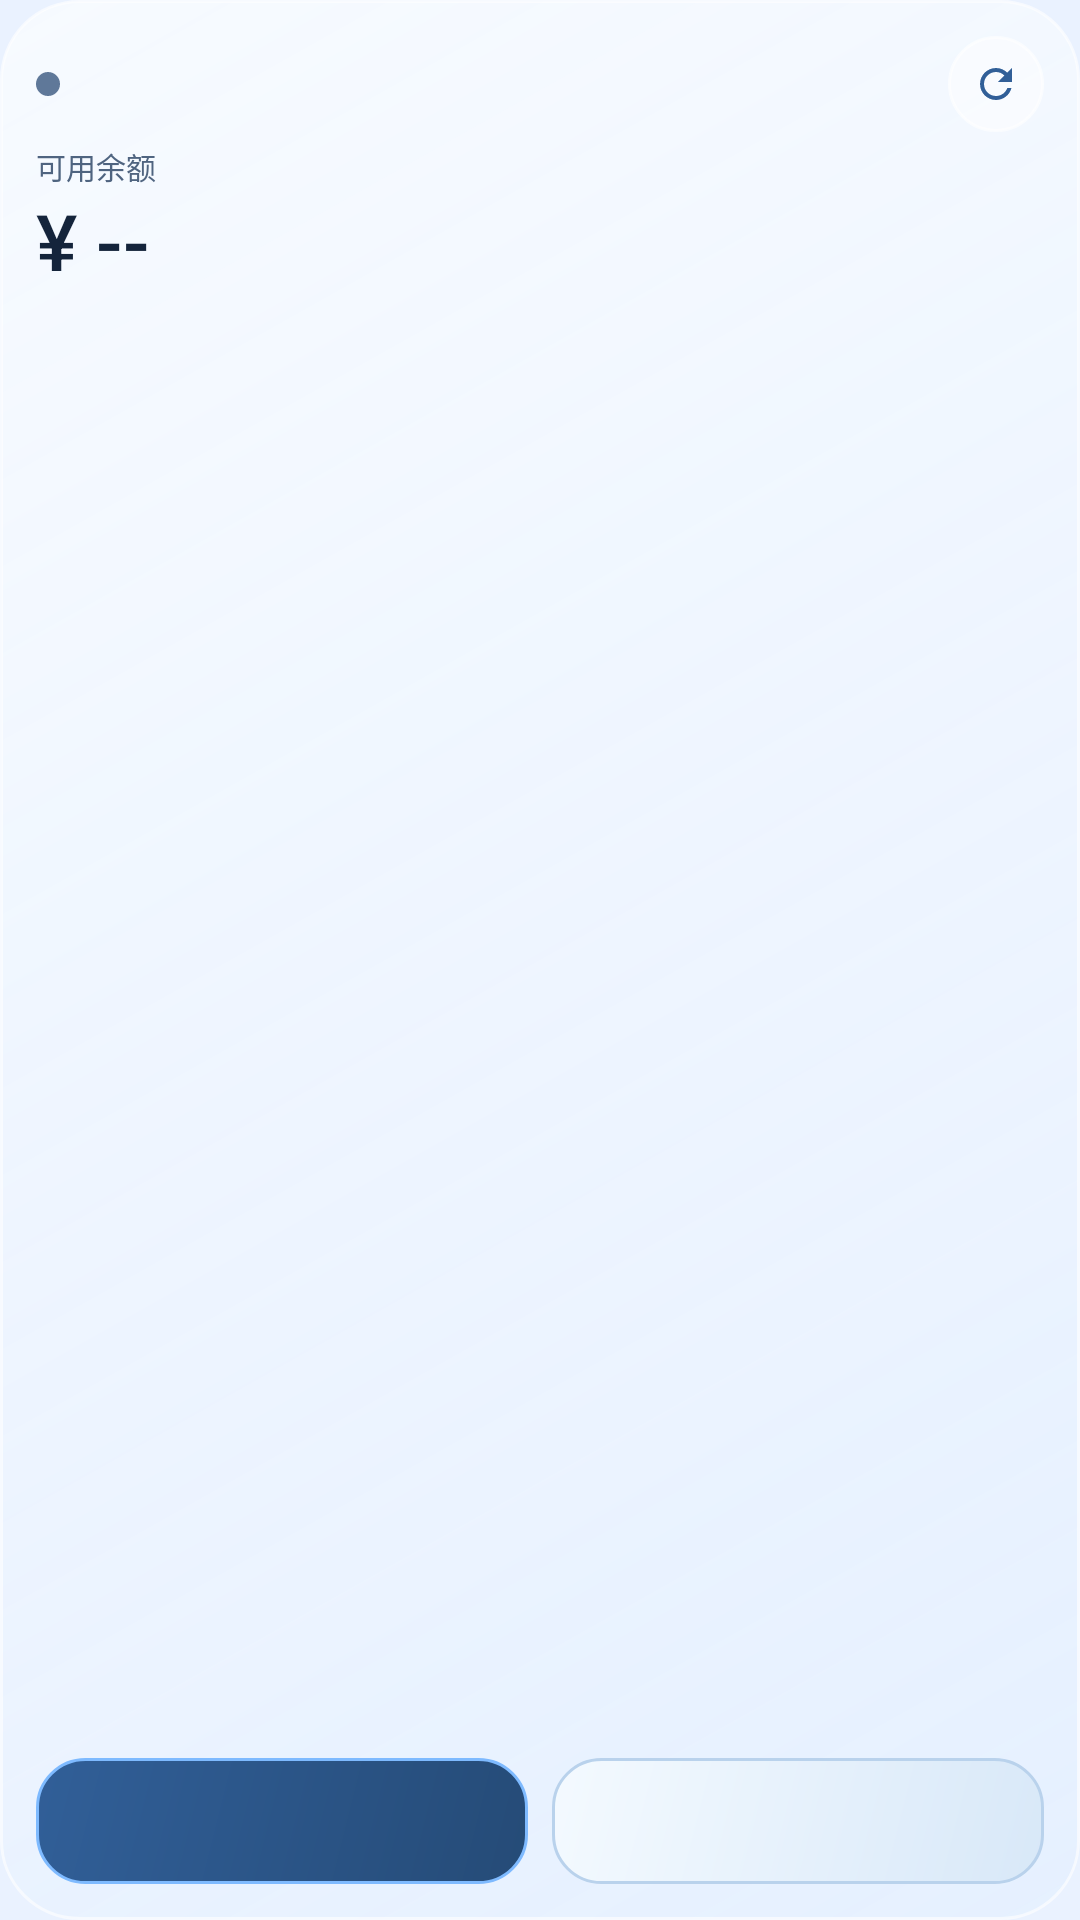

Screen size 1080px x 1920px. Icon name, then its box in pixels as bbox=(x1, y1, x2, y2):
刷新状态: bbox=(980, 68, 1012, 100)
